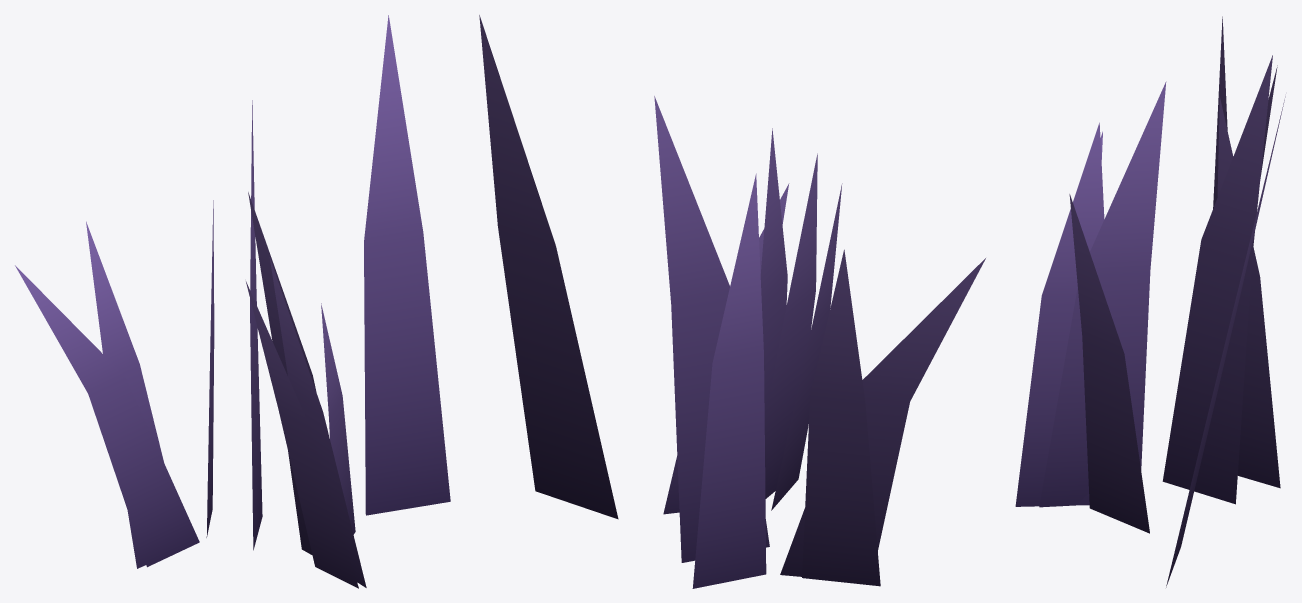
The model's file is grass_shadow.glb.
3 views of the same model, side by side, from view 1: azimuth 30°, elevation 25°; view 2: azimuth 150°, elevation 25°; view 3: azimuth 270°, elevation 25° (orthographic). The views are drawn at different scales.
Parts seen in each view (by area): view 1: grass_shadow; view 2: grass_shadow; view 3: grass_shadow.
Part boxes in pixels (x1,y1,x2,y2): grass_shadow: (15,15,450,588); grass_shadow: (479,15,985,588); grass_shadow: (1015,16,1285,587).
Bounding box in the file's own units: 0.5439 × 0.5651 × 0.2801.
